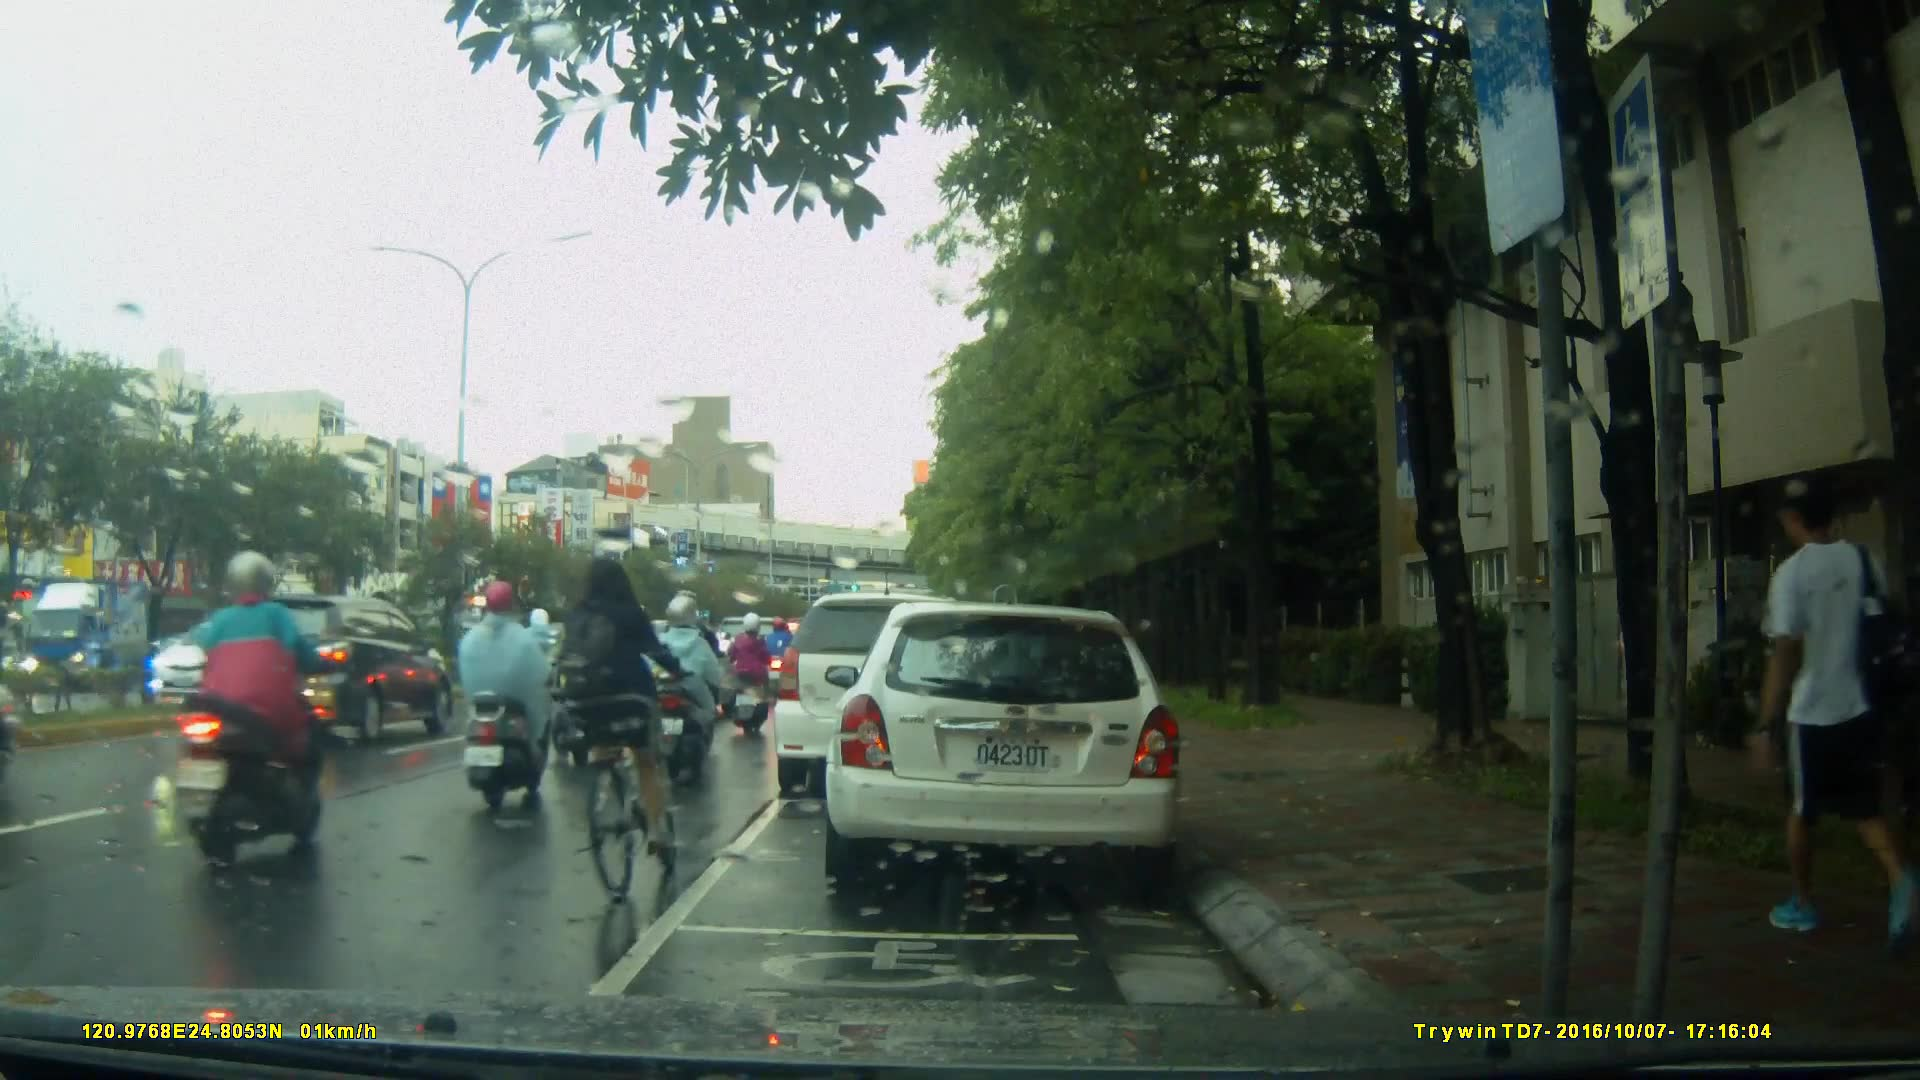pedestrian: (1760, 469, 1920, 965)
rider: (168, 553, 325, 865), (566, 552, 678, 891), (453, 581, 559, 818), (648, 594, 723, 771), (655, 590, 730, 760), (562, 597, 634, 770), (516, 612, 581, 745), (725, 619, 778, 742), (754, 612, 799, 688)
vehicle: (822, 604, 1188, 883), (774, 595, 995, 802), (199, 593, 459, 748), (20, 576, 161, 697)
